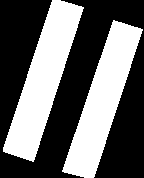parkingspot: (3, 0, 83, 161), (62, 20, 142, 178)
